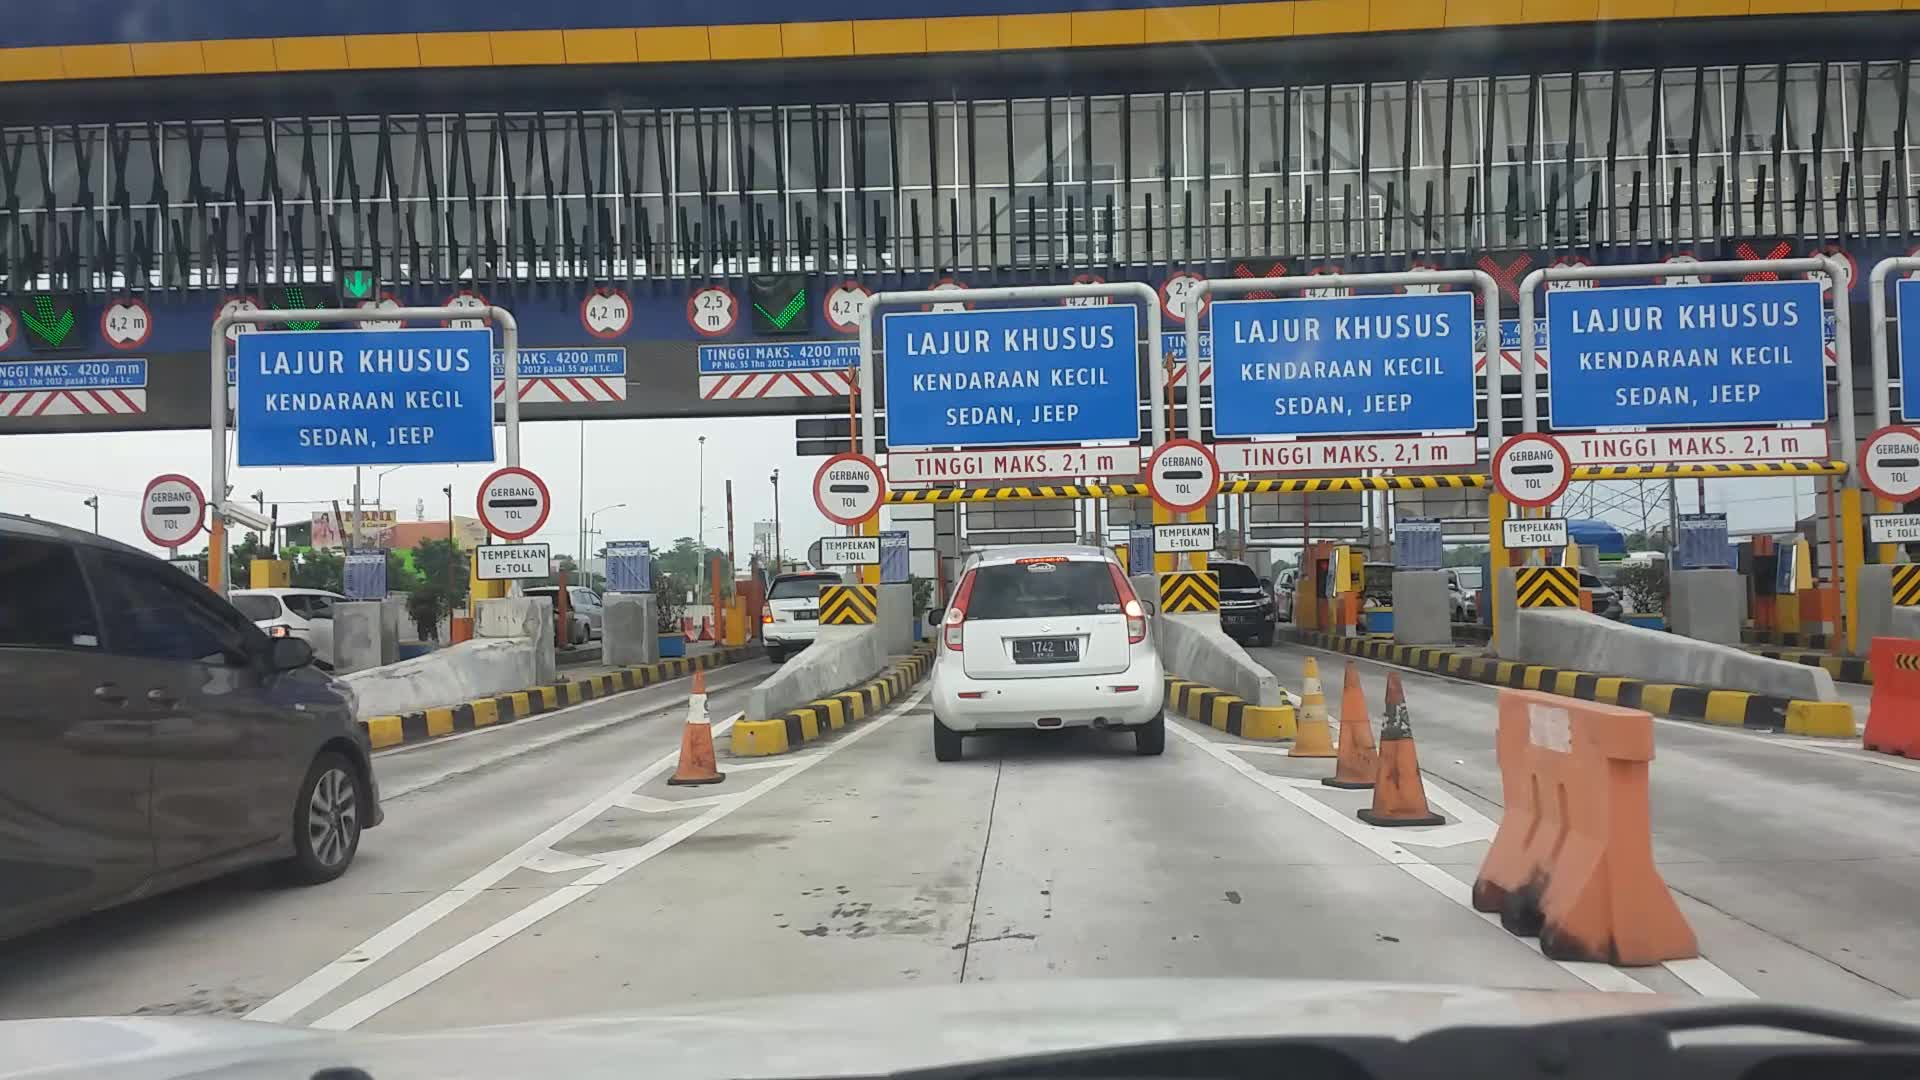plate_positive: (1011, 638, 1080, 665)
